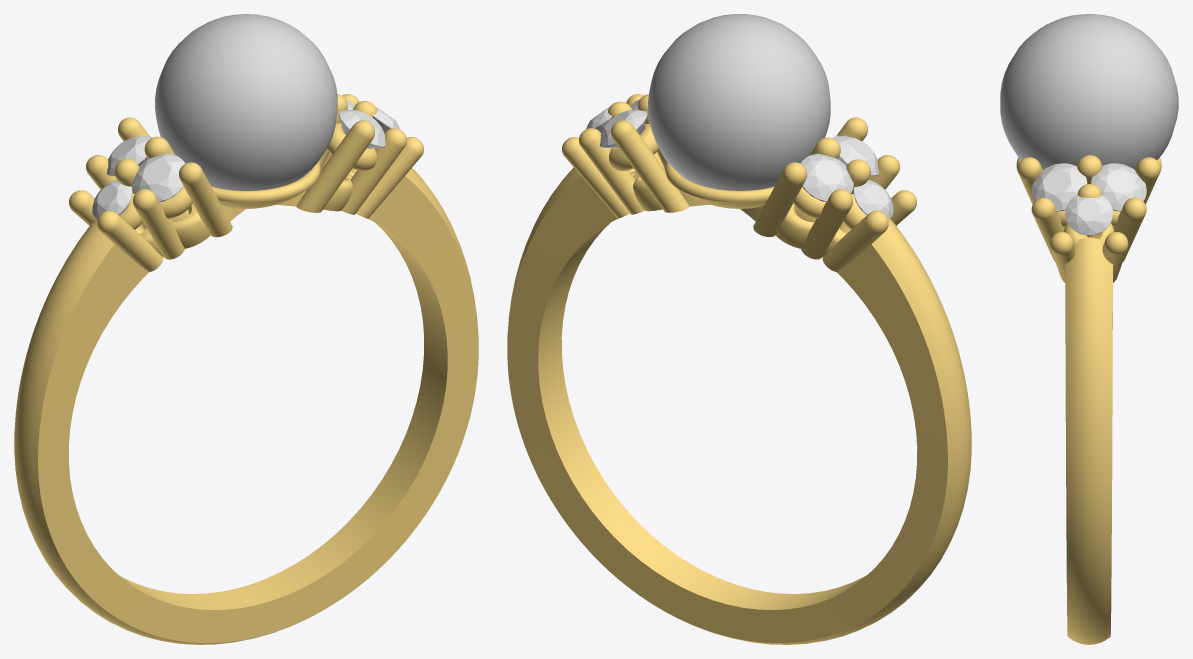
Rendered from DJ straight cluster.glb.
3 renders of one model, left to right at view 1: azimuth 30°, elevation 25°; view 2: azimuth 150°, elevation 25°; view 3: azimuth 270°, elevation 25°, orthographic. The views are drawn at different scales.
Visible parts, largest first — view 1: v3 straight YG for 3d model, v3 straight pearl for 3d model, v3 straight dia for 3d model.003, v3 straight dia for 3d model.004, v3 straight dia for 3d model.001, v3 straight dia for 3d model.002; view 2: v3 straight YG for 3d model, v3 straight pearl for 3d model, v3 straight dia for 3d model.001, v3 straight dia for 3d model.004, v3 straight dia for 3d model.003, v3 straight dia for 3d model; view 3: v3 straight YG for 3d model, v3 straight pearl for 3d model, v3 straight dia for 3d model.002, v3 straight dia for 3d model, v3 straight dia for 3d model.005.
Boxes of the visible parts, x1=… form: v3 straight YG for 3d model: x1=14, y1=94, x2=478, y2=644; v3 straight pearl for 3d model: x1=155, y1=14, x2=337, y2=190; v3 straight dia for 3d model.003: x1=132, y1=153, x2=184, y2=202; v3 straight dia for 3d model.004: x1=92, y1=180, x2=132, y2=219; v3 straight dia for 3d model.001: x1=107, y1=135, x2=152, y2=176; v3 straight dia for 3d model.002: x1=338, y1=110, x2=385, y2=148; v3 straight YG for 3d model: x1=507, y1=94, x2=971, y2=644; v3 straight pearl for 3d model: x1=648, y1=14, x2=830, y2=190; v3 straight dia for 3d model.001: x1=800, y1=153, x2=853, y2=201; v3 straight dia for 3d model.004: x1=853, y1=180, x2=893, y2=219; v3 straight dia for 3d model.003: x1=833, y1=135, x2=878, y2=176; v3 straight dia for 3d model: x1=600, y1=109, x2=647, y2=148; v3 straight YG for 3d model: x1=1016, y1=155, x2=1161, y2=644; v3 straight pearl for 3d model: x1=1000, y1=14, x2=1178, y2=169; v3 straight dia for 3d model.002: x1=1031, y1=163, x2=1087, y2=211; v3 straight dia for 3d model: x1=1091, y1=163, x2=1146, y2=211; v3 straight dia for 3d model.005: x1=1065, y1=194, x2=1112, y2=235.
Bounding box in the file's own units: 21.56 × 27.8 × 7.5.
